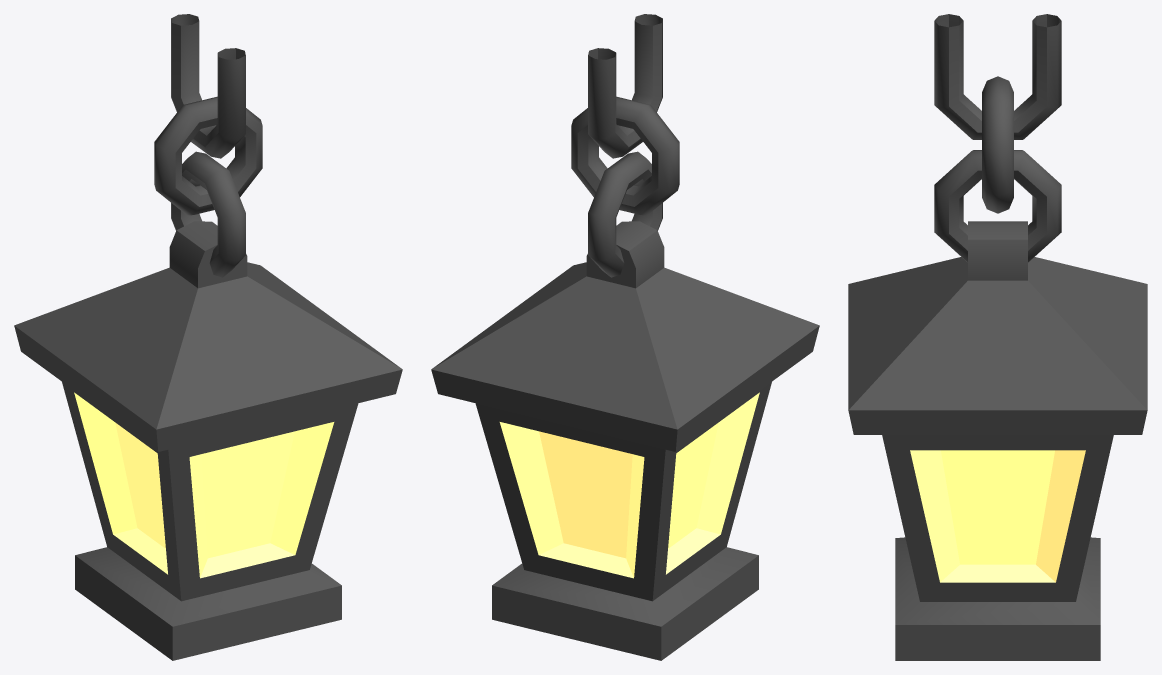
The model's file is hanging_lantern_new.glb.
3 views of the same model, side by side, from view 1: azimuth 30°, elevation 25°; view 2: azimuth 150°, elevation 25°; view 3: azimuth 270°, elevation 25° (orthographic). The views are drawn at different scales.
Parts seen in each view (by area): view 1: lantern_hanging; view 2: lantern_hanging; view 3: lantern_hanging.
Boxes of the visible parts, box(x1,y1,x2,y2) form: lantern_hanging: box(14, 14, 402, 660); lantern_hanging: box(431, 14, 819, 660); lantern_hanging: box(848, 14, 1147, 660).
Bounding box in the file's own units: 0.64 × 1.41 × 0.64.
